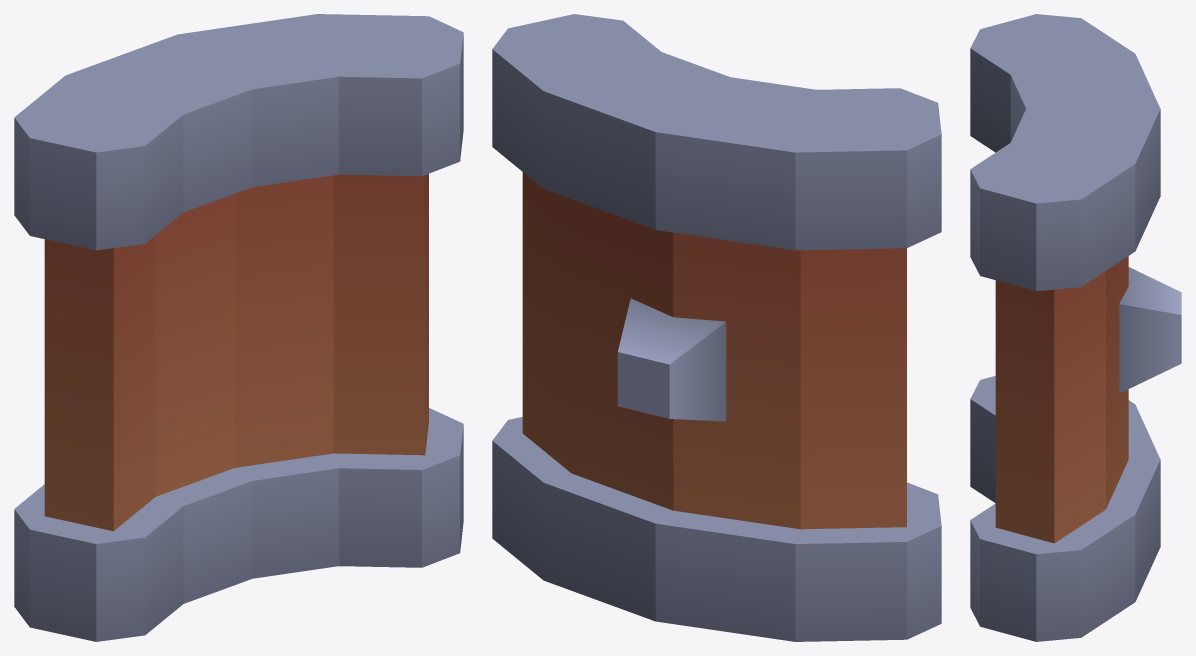
The model's file is shield-rectangle.glb.
The picture shows the model from 3 angles, left to right: view 1: azimuth 30°, elevation 25°; view 2: azimuth 150°, elevation 25°; view 3: azimuth 270°, elevation 25°; orthographic projection. The views are drawn at different scales.
Visible parts, largest first — view 1: geometry_0; view 2: geometry_0; view 3: geometry_0.
Part boxes in pixels (<box>): geometry_0: <box>14,14,463,641</box>; geometry_0: <box>492,14,941,641</box>; geometry_0: <box>970,14,1181,641</box>.
Size of the model in its own units: 1 by 1.08 by 0.4719.
